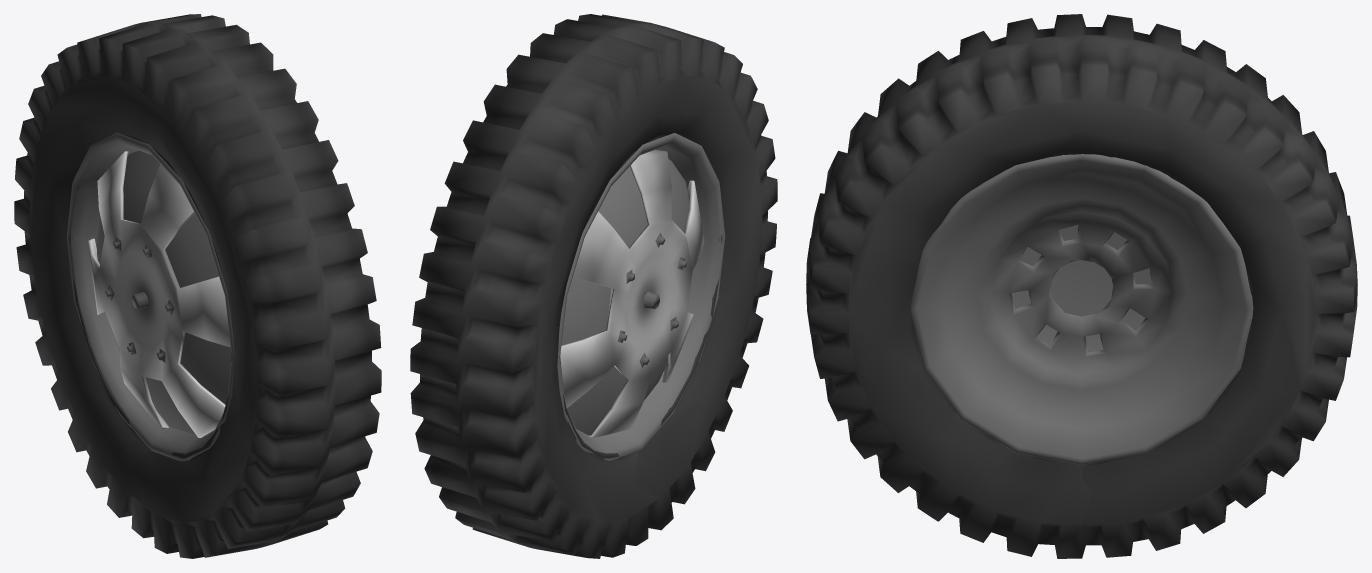
The model's file is OT_wheel_front_d3.obj.
The picture shows the model from 3 angles, left to right: view 1: azimuth 30°, elevation 25°; view 2: azimuth 150°, elevation 25°; view 3: azimuth 270°, elevation 25°; orthographic projection. The views are drawn at different scales.
Parts seen in each view (by area): view 1: OT_wheel_front_OT_wheel_front_DefaultMaterial; view 2: OT_wheel_front_OT_wheel_front_DefaultMaterial; view 3: OT_wheel_front_OT_wheel_front_DefaultMaterial.
Boxes of the visible parts, x1,y1,x2,y2 form: OT_wheel_front_OT_wheel_front_DefaultMaterial: (14,14,381,558); OT_wheel_front_OT_wheel_front_DefaultMaterial: (410,14,777,558); OT_wheel_front_OT_wheel_front_DefaultMaterial: (806,14,1357,558).
Size of the model in its own units: 0.2515 by 0.9904 by 0.9903.
1 material, 1 textured.
